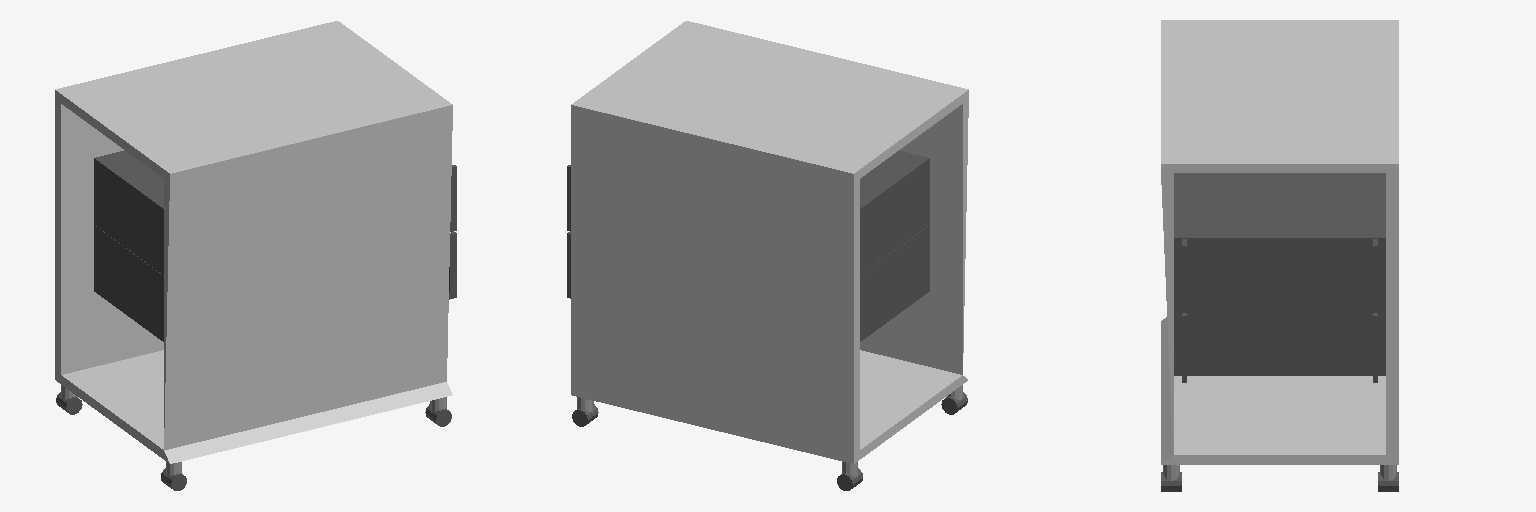
URDF robot description (hrp2-rack):
<?xml version="1.0"?>
<robot name="hrp2-rack"
       xmlns:xi="http://www.w3.org/2001/XInclude"
       xmlns:gazebo="http://playerstage.sourceforge.net/gazebo/xmlschema/#gz"
       xmlns:model="http://playerstage.sourceforge.net/gazebo/xmlschema/#model"
       xmlns:sensor="http://playerstage.sourceforge.net/gazebo/xmlschema/#sensor"
       xmlns:body="http://playerstage.sourceforge.net/gazebo/xmlschema/#body"
       xmlns:geom="http://playerstage.sourceforge.net/gazebo/xmlschema/#geom"
       xmlns:joint="http://playerstage.sourceforge.net/gazebo/xmlschema/#joint"
       xmlns:interface="http://playerstage.sourceforge.net/gazebo/xmlschema/#interface"
       xmlns:rendering="http://playerstage.sourceforge.net/gazebo/xmlschema/#rendering"
       xmlns:renderable="http://playerstage.sourceforge.net/gazebo/xmlschema/#renderable"
       xmlns:controller="http://playerstage.sourceforge.net/gazebo/xmlschema/#controller"
       xmlns:physics="http://playerstage.sourceforge.net/gazebo/xmlschema/#physics">
  <gazebo>
    <static>false</static>
  </gazebo>
  <link name="nil_link">
    <visual>
      <origin xyz="0 0 0" rpy="0 -0 0"/>
      <geometry>
        <mesh filename="model://hrp2-rack/meshes/nil_link_mesh.dae" scale="1 1 1" />
      </geometry>
    </visual>
    <collision>
      <origin xyz="0 0 0" rpy="0 -0 0"/>
      <geometry>
        <mesh filename="model://hrp2-rack/meshes/nil_link_mesh.dae" scale="1 1 1" />
      </geometry>
    </collision>
    <inertial>
      <mass value="0.001" />
      <origin xyz="0 0 0" rpy="0 -0 0"/>
      <inertia ixx="1e-09" ixy="0" ixz="0" iyy="1e-09" iyz="0" izz="1e-09"/>
    </inertial>
  </link>
  <gazebo reference="nil_link">
    <mu1>0.9</mu1>
    <mu2>0.9</mu2>
  </gazebo>
</robot>

--- What the picture shows (computed from the rendered views, not written in the file) ---
Views: 3 orthographic renders of the robot side by side, from view 1: azimuth 30°, elevation 25°; view 2: azimuth 150°, elevation 25°; view 3: azimuth 270°, elevation 25°.
Model hrp2-rack with 1 links and 0 joints (none), rooted at nil_link, posed every joint at zero.
Links seen in each view (by area): view 1: nil_link; view 2: nil_link; view 3: nil_link.
Link boxes in pixels (x1,y1,x2,y2): nil_link: (55, 21, 456, 490); nil_link: (567, 21, 968, 490); nil_link: (1161, 20, 1398, 491).
Bounding box of the posed robot: 0.82 × 0.55 × 0.8425 m (x, y, z).
1 mesh visuals loaded from 1 distinct referenced files (1 Collada DAE).
